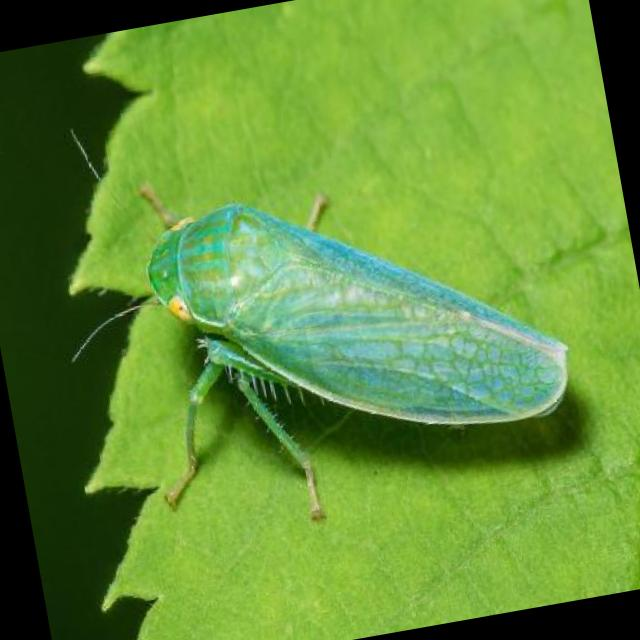green-leafhopper: (148, 204, 568, 518)
